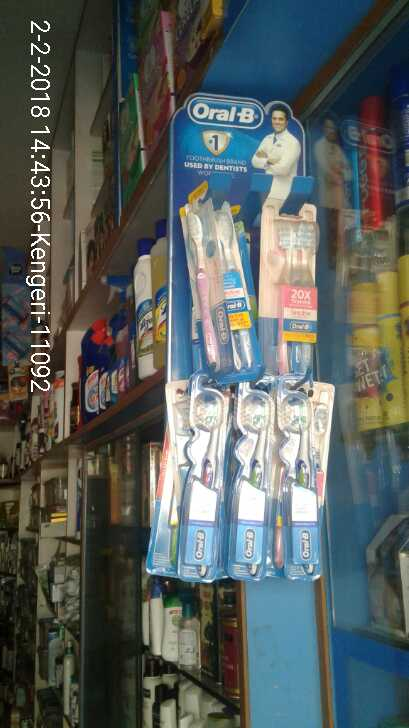oralb: (188, 183, 256, 376), (161, 386, 224, 579), (258, 207, 330, 364), (271, 396, 335, 567), (226, 395, 271, 580)
